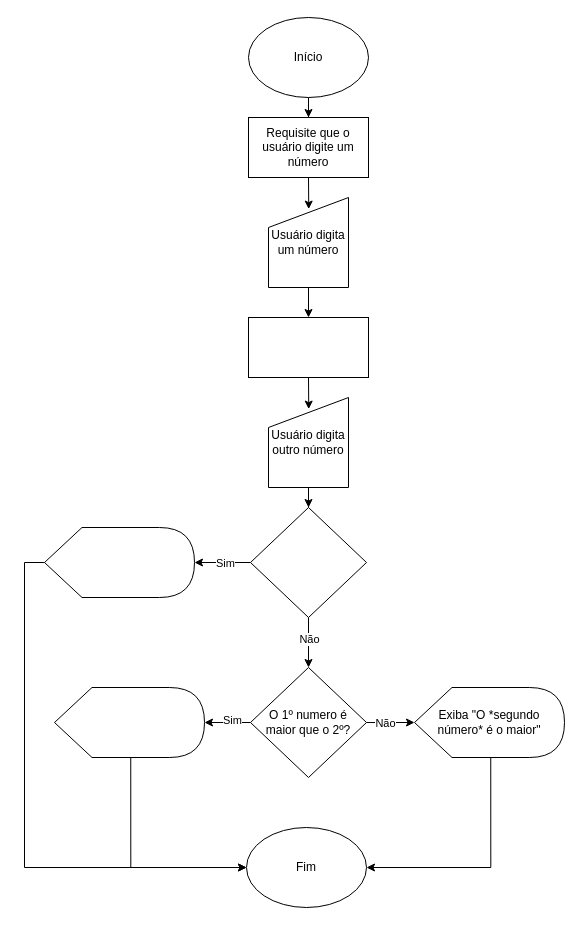
Image size: 582x925. Some labels were removed from this diagram. The shapes that lost their labels are listed below. From the top down, each one's centre as x and y in pixels, then its label:
point (308, 347): Requisite que o usuário digite outro número
point (119, 562): Exiba "Os números são iguais"
point (308, 562): Os números são iguais?
point (129, 722): Exiba "O *primeiro número* é o maior"
